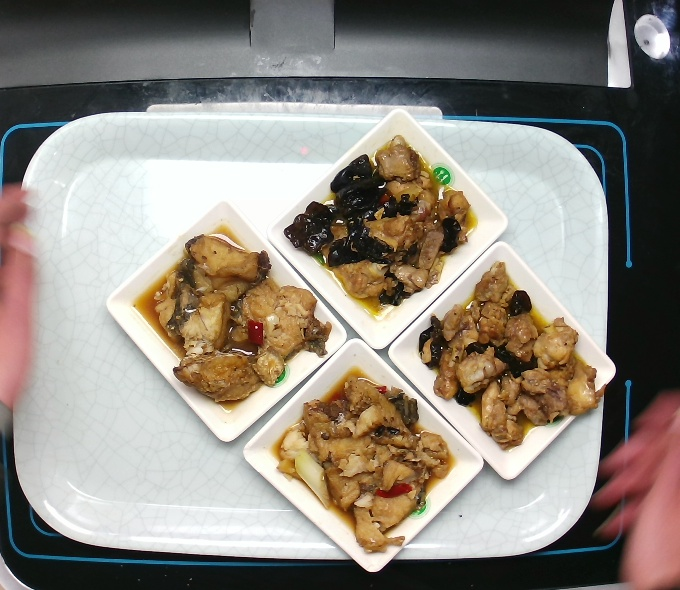wcq-MuErRouKuai: (411, 258, 603, 447), (284, 129, 478, 312)
wcq-YuKuai: (272, 374, 457, 552), (146, 231, 331, 401)
